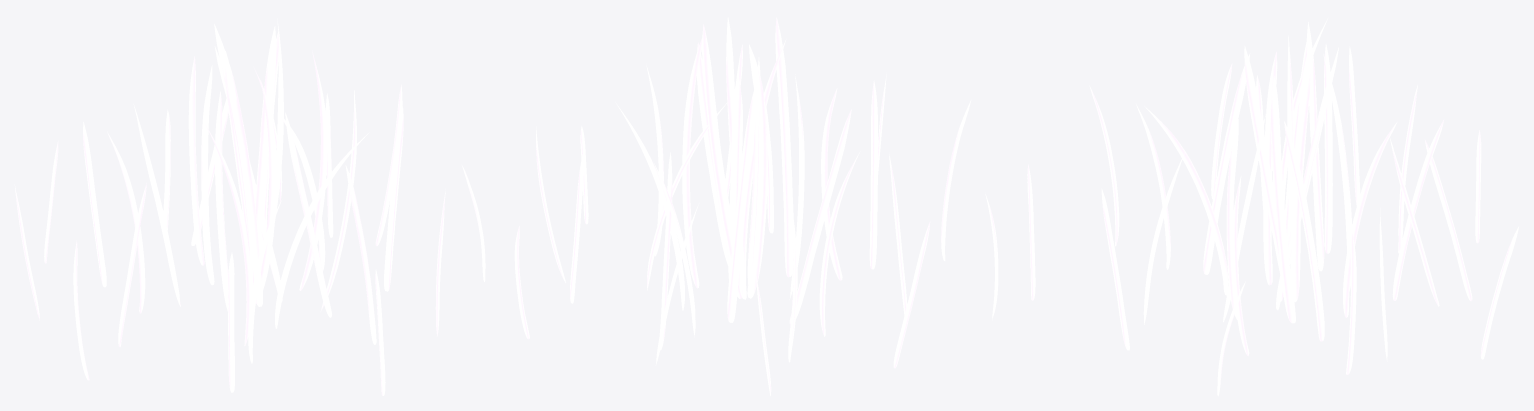
3 views of the same model, side by side, from view 1: azimuth 30°, elevation 25°; view 2: azimuth 150°, elevation 25°; view 3: azimuth 270°, elevation 25° (orthographic).
Visible parts, largest first — view 1: SM_LongGrass_04_LOD0; view 2: SM_LongGrass_04_LOD0; view 3: SM_LongGrass_04_LOD0.
Part boxes in pixels (x1,y1,x2,y2): SM_LongGrass_04_LOD0: [14, 18, 485, 395]; SM_LongGrass_04_LOD0: [514, 17, 998, 395]; SM_LongGrass_04_LOD0: [1027, 18, 1518, 396].
Size of the model in its own units: 1.47 by 0.953 by 1.51.
Materials: 1 (1 with a texture image).
